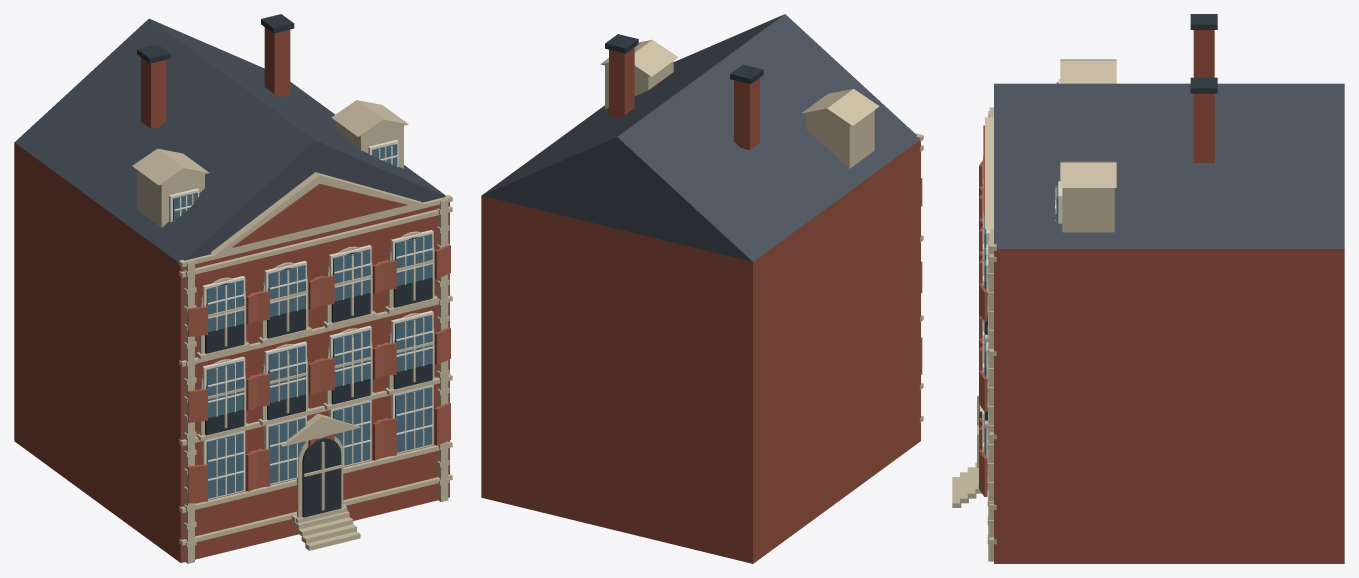
The model's file is rembrandt-house.glb.
3 renders of one model, left to right at view 1: azimuth 30°, elevation 25°; view 2: azimuth 150°, elevation 25°; view 3: azimuth 270°, elevation 25°, orthographic. The views are drawn at different scales.
Visible parts, largest first — view 1: rembrandt-house; view 2: rembrandt-house; view 3: rembrandt-house.
Boxes of the visible parts, x1=… form: rembrandt-house: x1=14, y1=14, x2=452, y2=563; rembrandt-house: x1=481, y1=14, x2=923, y2=563; rembrandt-house: x1=952, y1=14, x2=1344, y2=563.
Size of the model in its own units: 16.47 by 24.5 by 19.62.
